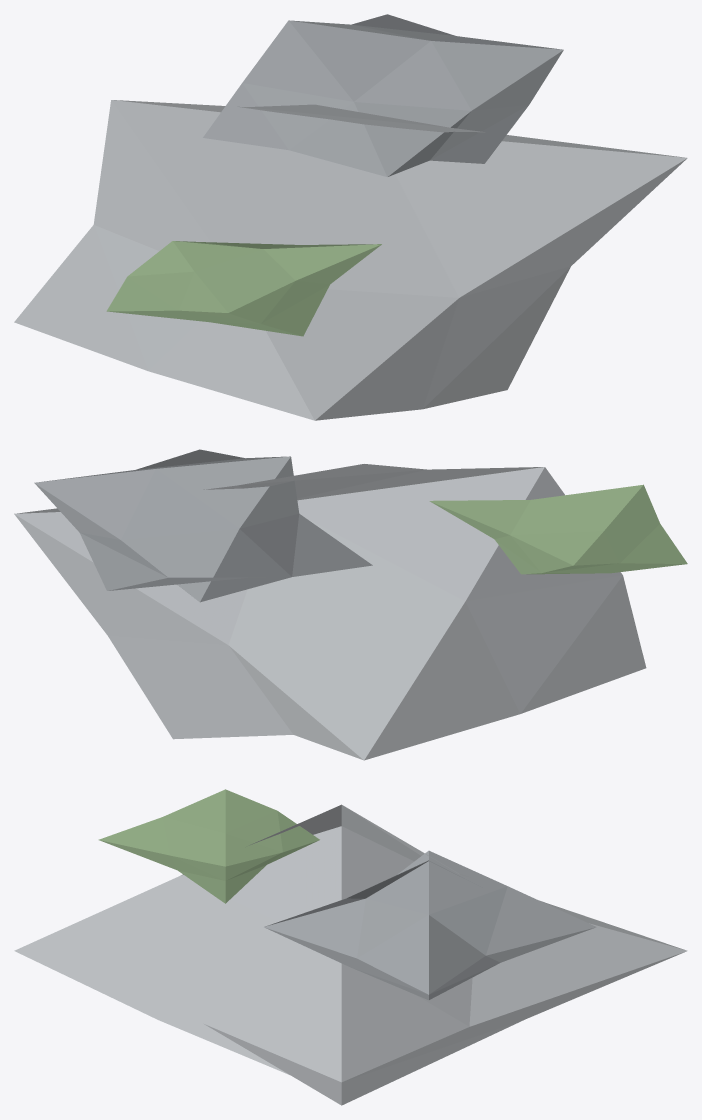
File: boulder_v32.glb
3 views of the same model, one above another, from view 1: azimuth 30°, elevation 25°; view 2: azimuth 150°, elevation 25°; view 3: azimuth 270°, elevation 25° (orthographic). The views are drawn at different scales.
Parts seen in each view (by area): view 1: lod0; view 2: lod0; view 3: lod0.
Part boxes in pixels (left/top/right/bottom): lod0: left=14, top=14, right=687, bottom=420; lod0: left=14, top=449, right=687, bottom=760; lod0: left=14, top=789, right=687, bottom=1105.
Size of what is drawn, in the model's own units: 2.96 by 1.42 by 3.02.
